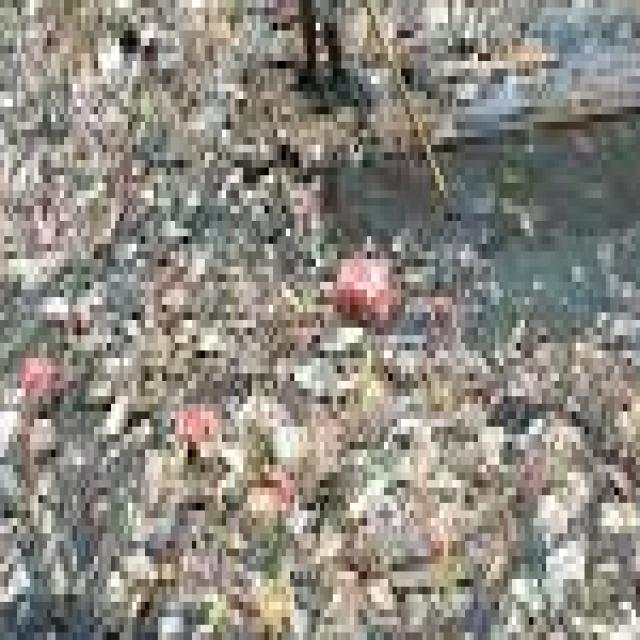-: (0, 0, 252, 640), (324, 221, 640, 640)
